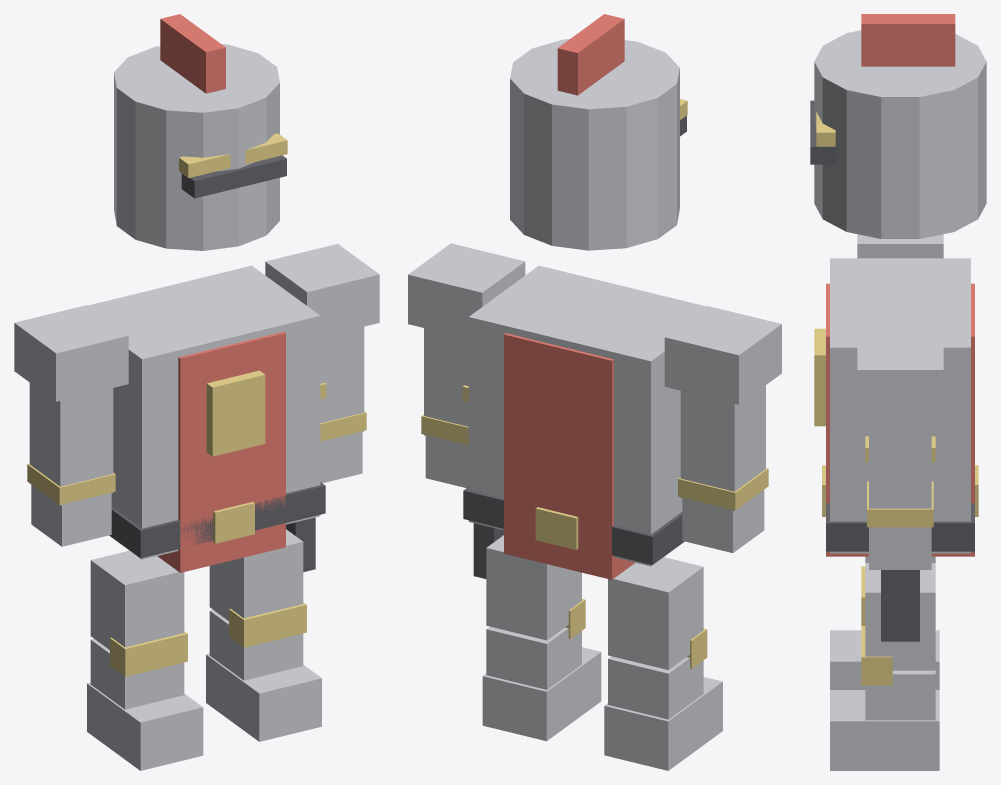
The model's file is low-poly-knight.glb.
3 renders of one model, left to right at view 1: azimuth 30°, elevation 25°; view 2: azimuth 150°, elevation 25°; view 3: azimuth 270°, elevation 25°, orthographic. The views are drawn at different scales.
Visible parts, largest first — view 1: Cuirass, BucketHelm, Surcoat, Pauldron_L, Cuisse_L, Vambrace_L, Sabaton_L, Sabaton_R, Pauldron_R, Cuisse_R, WarBelt, HeraldicCross (+14 smaller); view 2: BucketHelm, Cuirass, Surcoat, Pauldron_L, Cuisse_L, Vambrace_L, Pauldron_R, Cuisse_R, Sabaton_R, Sabaton_L, Greave_R, Greave_L (+9 smaller); view 3: BucketHelm, Cuirass, Pauldron_R, Sabaton_R, Vambrace_R, HelmPlume, Cuisse_R, Greave_R, WarBelt, Scabbard, Gauntlet_R, Sabaton_L (+8 smaller).
Part boxes in pixels (x1,y1,x2,y2): Cuirass: (88,265,320,559); BucketHelm: (114,44,279,250); Surcoat: (157,331,285,572); Pauldron_L: (14,305,128,401); Cuisse_L: (90,550,184,649); Vambrace_L: (29,383,113,505); Sabaton_L: (87,682,203,770); Sabaton_R: (206,653,321,741); Pauldron_R: (265,244,379,337); Cuisse_R: (209,529,303,620); WarBelt: (109,482,325,558); HeraldicCross: (206,370,265,456); BucketHelm: (510,39,679,250); Cuirass: (468,265,706,566); Surcoat: (504,333,634,579); Pauldron_L: (664,306,781,404); Cuisse_L: (608,557,703,669); Vambrace_L: (680,385,765,511); Pauldron_R: (408,243,525,338); Cuisse_R: (486,535,581,640); Sabaton_R: (482,647,601,741); Sabaton_L: (604,677,722,770); Greave_R: (486,626,581,689); Greave_L: (608,656,703,719); BucketHelm: (814,30,986,238); Cuirass: (830,258,970,553); Pauldron_R: (857,333,943,419); Sabaton_R: (830,690,939,770); Vambrace_R: (869,419,931,528); HelmPlume: (861,14,955,66); Cuisse_R: (865,563,935,670); Greave_R: (865,670,935,720); WarBelt: (826,503,974,551); Scabbard: (881,570,919,641); Gauntlet_R: (869,528,931,569); Sabaton_L: (830,630,939,689).
Size of the model in its own units: 0.98 by 1.99 by 0.45.
